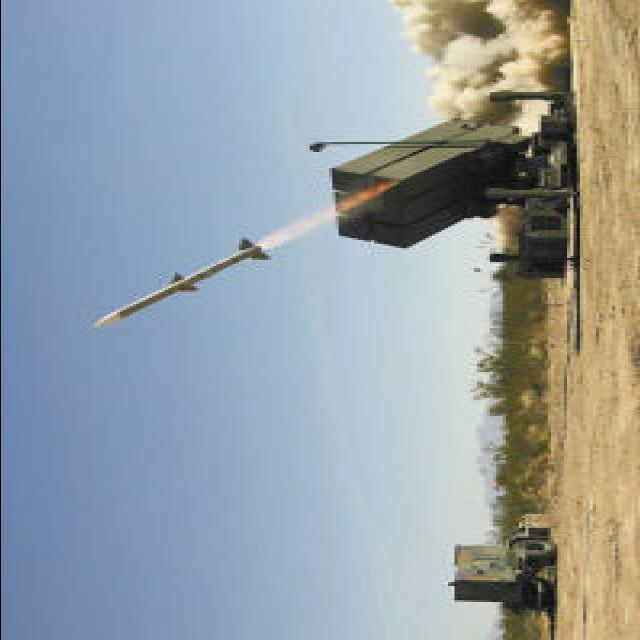missile: (94, 233, 268, 328)
